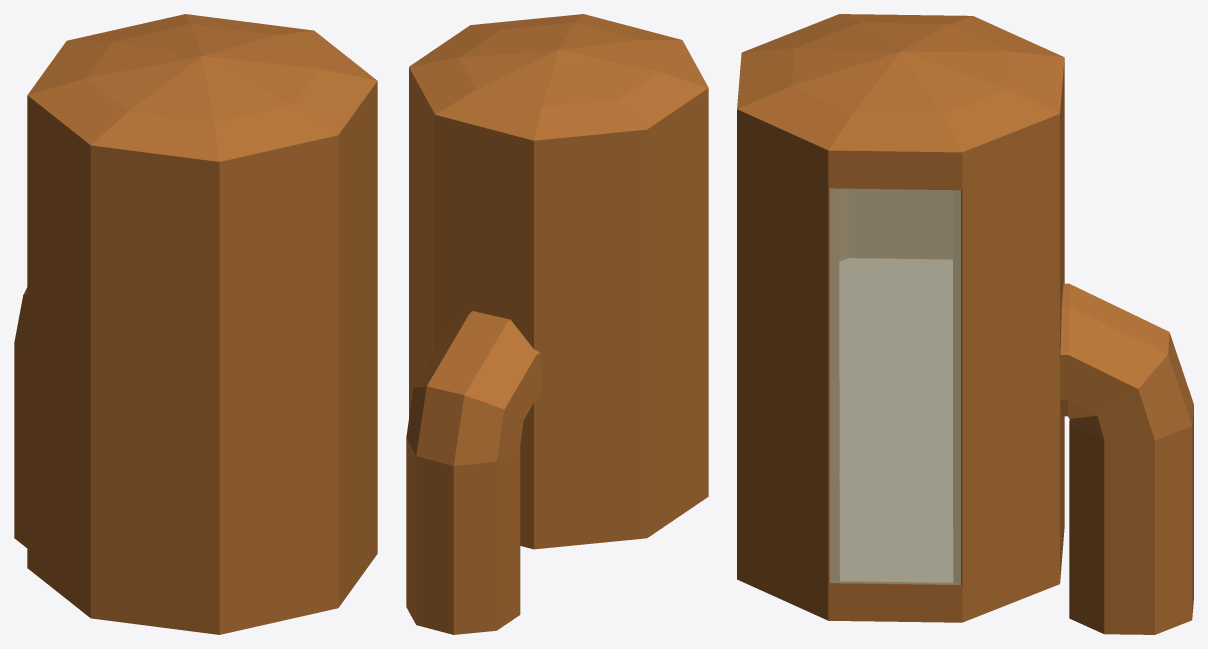
The model's file is VAT50.glb.
3 views of the same model, side by side, from view 1: azimuth 30°, elevation 25°; view 2: azimuth 150°, elevation 25°; view 3: azimuth 270°, elevation 25° (orthographic). The views are drawn at different scales.
Visible parts, largest first — view 1: Cylinder, Cylinder.001; view 2: Cylinder, Cylinder.001; view 3: Cylinder, glass, Cylinder.001, liquidHeight.
Part boxes in pixels (left/top/right/bottom): Cylinder: left=27, top=14, right=377, bottom=634; Cylinder.001: left=14, top=287, right=27, bottom=547; Cylinder: left=409, top=14, right=708, bottom=549; Cylinder.001: left=406, top=311, right=541, bottom=634; Cylinder: left=737, top=14, right=1064, bottom=622; glass: left=830, top=188, right=960, bottom=584; Cylinder.001: left=1060, top=283, right=1193, bottom=634; liquidHeight: left=840, top=258, right=952, bottom=582.
Size of the model in its own units: 1.82 by 3.44 by 2.54.
